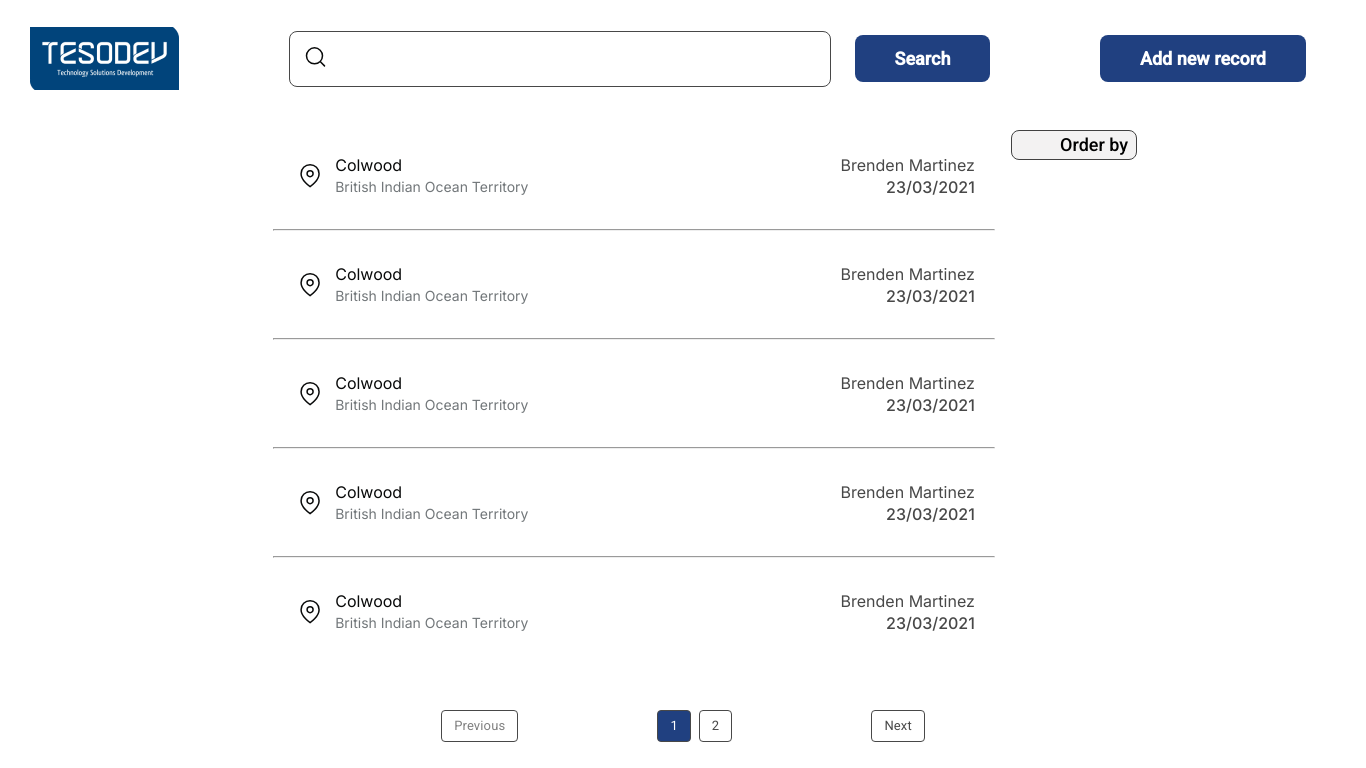
Test: Show More › does dropdown close
Click the element with test id "isViewDropdown".
click(1074, 145)  # box [1011, 130, 1137, 160]
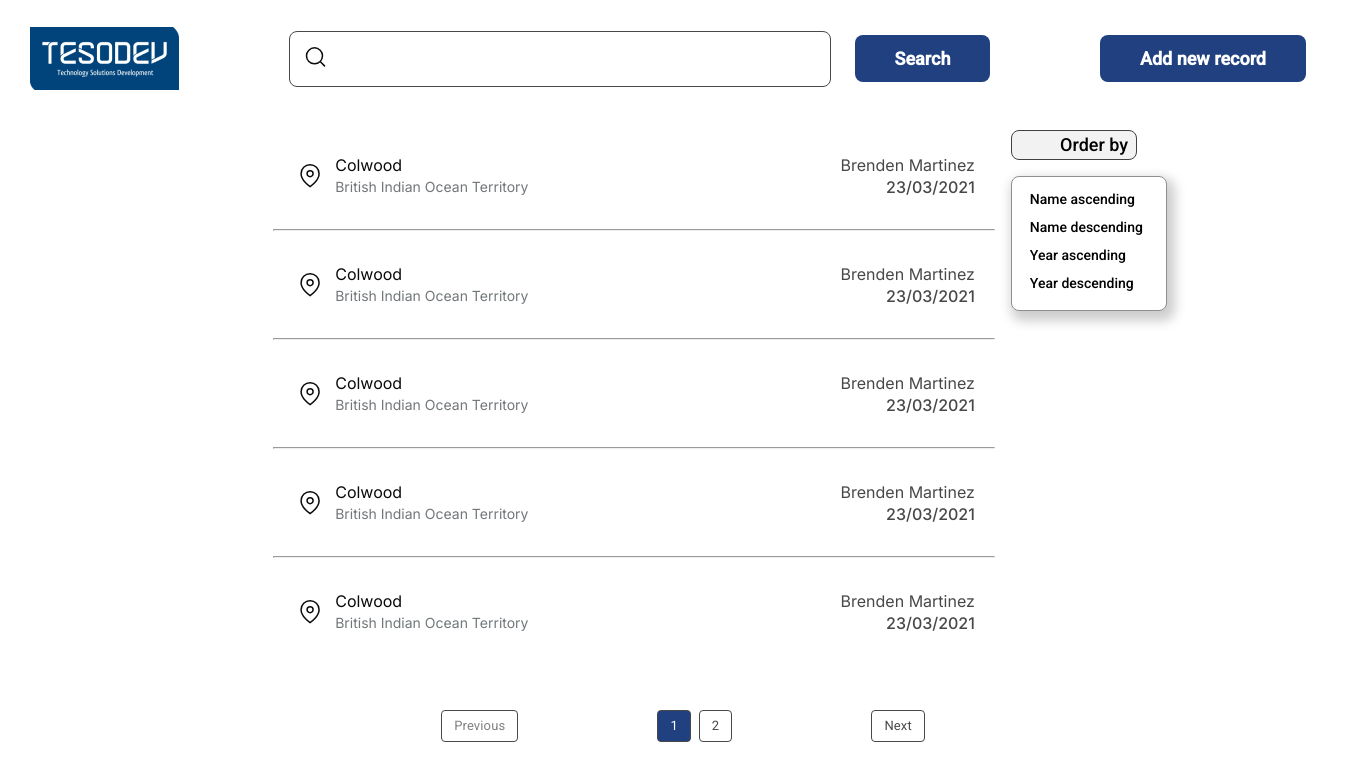
Now the button with test id "orderNameAscending" is shown, box [1020, 184, 1160, 212]
Click the element with test id "isViewDropdown".
click(1074, 145)  # box [1011, 130, 1137, 160]
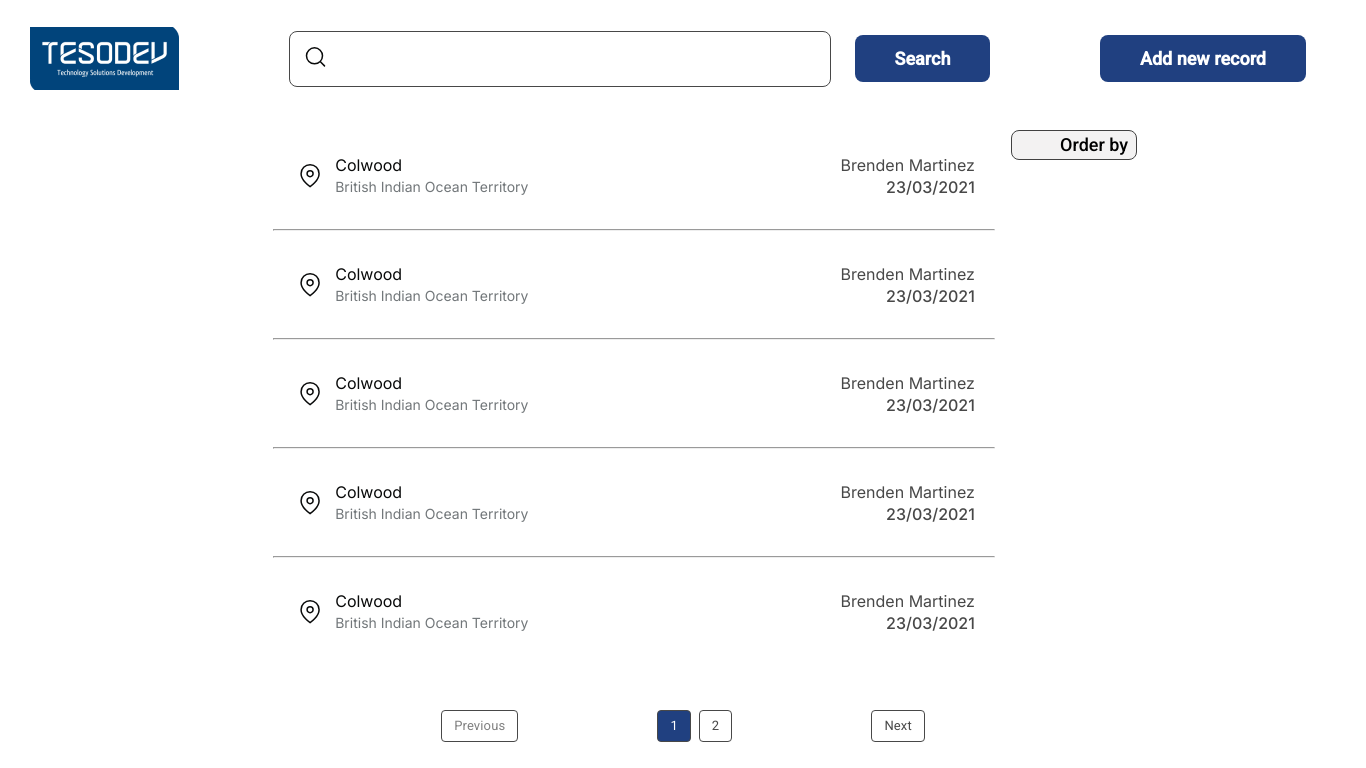
Now the button with test id "orderNameAscending" is gone
